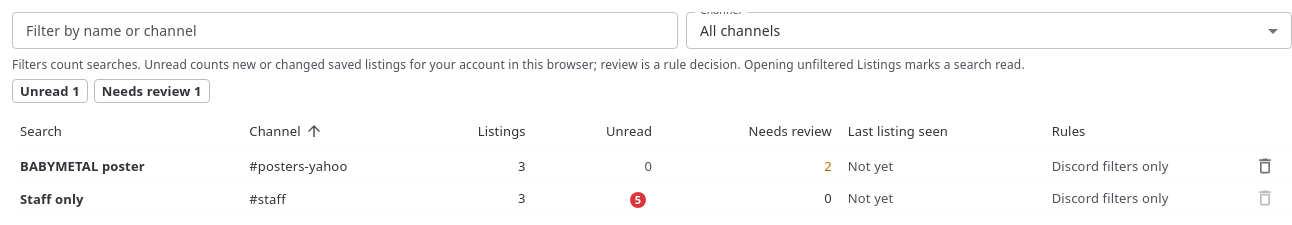
Test: SearchList inventory › filters to the searches with unread listings
The width and height of the screenshot is (1292, 225).
Click the button "Unread 1". click: (50,91)
box: top-left (12, 79), bottom-right (88, 103)
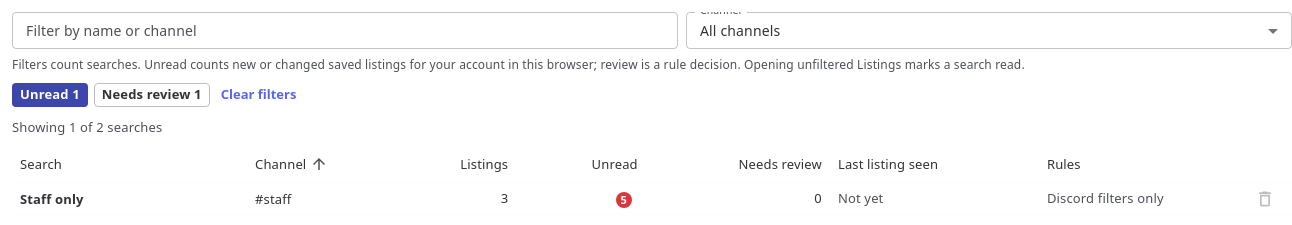
Expected: the button "Staff only" is shown, top-left (20, 190), bottom-right (84, 208)
Now the button "BABYMETAL poster" is gone
